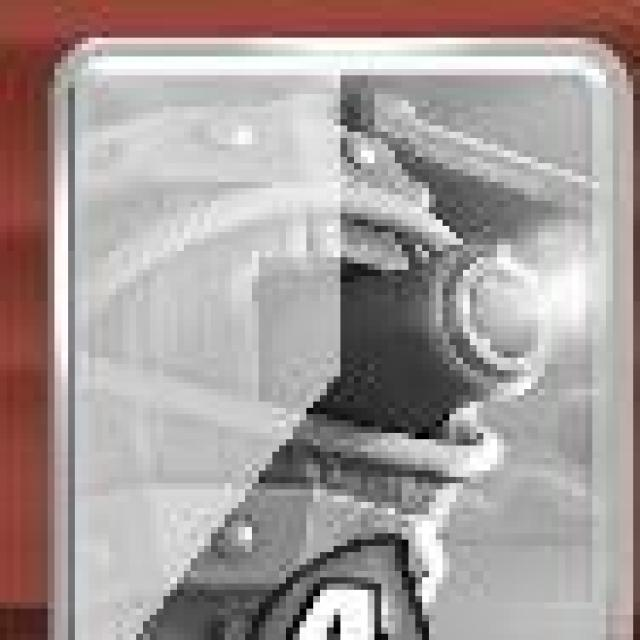Flying_Machine: (45, 35, 632, 640)
